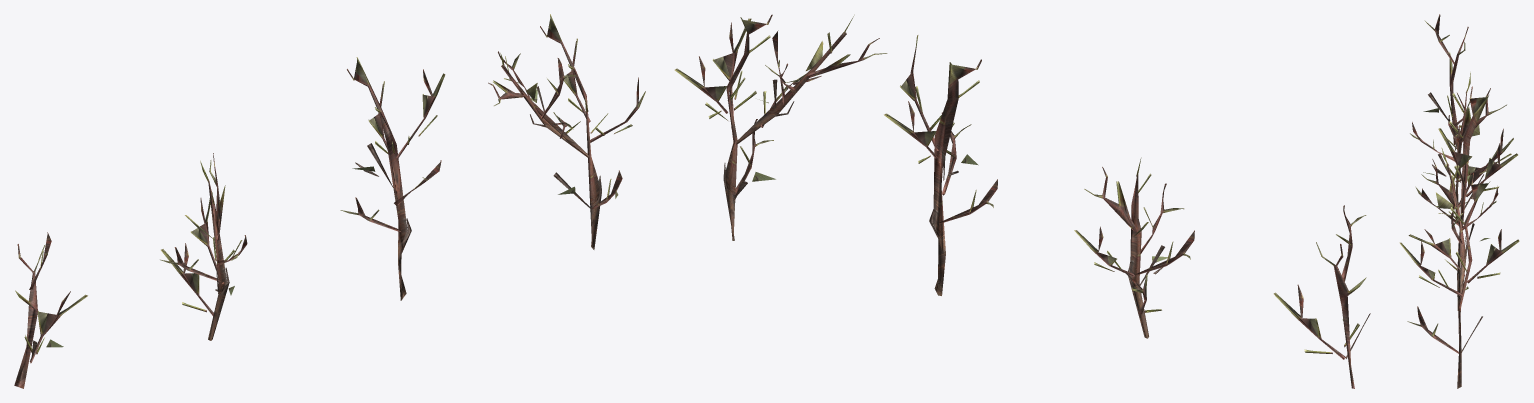
The model's file is shrub_04_lod2.gltf.
The picture shows the model from 3 angles, left to right: view 1: azimuth 30°, elevation 25°; view 2: azimuth 150°, elevation 25°; view 3: azimuth 270°, elevation 25°; orthographic projection. The views are drawn at different scales.
Parts seen in each view (by area): view 1: shrub_04_lod2; view 2: shrub_04_lod2; view 3: shrub_04_lod2.
Part boxes in pixels (x1,y1,x2,y2): shrub_04_lod2: (14,14,645,388); shrub_04_lod2: (674,14,1370,388); shrub_04_lod2: (1399,14,1519,388).
Bounding box in the file's own units: 0.5496 × 0.202 × 0.1076.
Materials: 1 (1 with a texture image).
